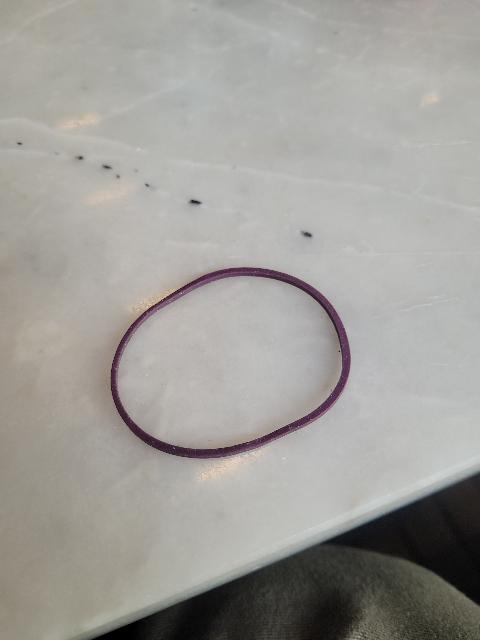Plastik: (108, 262, 358, 463)
